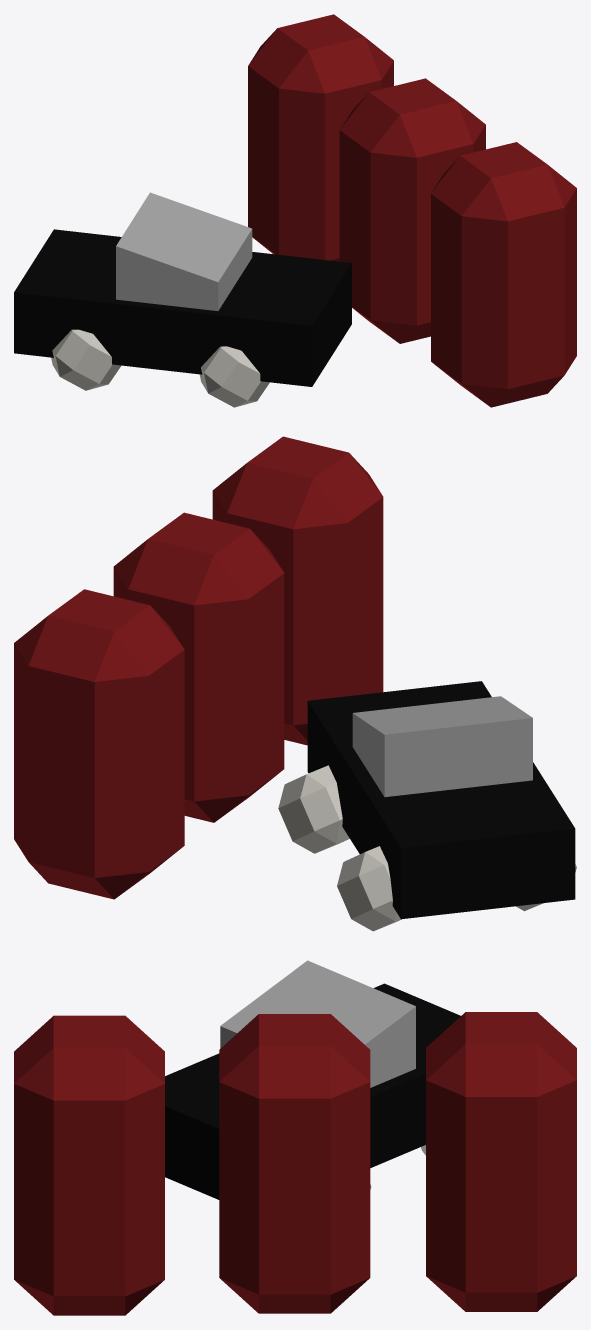
File: gasBunk.glb
3 renders of one model, top to bottom at view 1: azimuth 30°, elevation 25°; view 2: azimuth 150°, elevation 25°; view 3: azimuth 270°, elevation 25°, orthographic. The views are drawn at different scales.
Visible parts, largest first — view 1: Cube.002, Cube.328, Cube.001, Cube, Cube.329, Cube.003, Cube.004; view 2: Cube, Cube.001, Cube.328, Cube.002, Cube.329, Cube.006, Cube.005; view 3: Cube.001, Cube.002, Cube, Cube.328, Cube.329.
Part boxes in pixels (bbox=[...]): Cube.002: bbox=[431, 142, 576, 407]; Cube.328: bbox=[14, 229, 351, 386]; Cube.001: bbox=[339, 78, 485, 343]; Cube: bbox=[248, 14, 393, 261]; Cube.329: bbox=[116, 192, 252, 310]; Cube.003: bbox=[199, 346, 269, 407]; Cube.004: bbox=[51, 329, 120, 390]; Cube: bbox=[14, 589, 184, 899]; Cube.001: bbox=[113, 512, 284, 822]; Cube.328: bbox=[307, 681, 575, 919]; Cube.002: bbox=[212, 436, 383, 745]; Cube.329: bbox=[352, 696, 532, 797]; Cube.006: bbox=[278, 765, 349, 853]; Cube.005: bbox=[337, 846, 402, 931]; Cube.001: bbox=[219, 1014, 370, 1313]; Cube.002: bbox=[14, 1015, 164, 1315]; Cube: bbox=[426, 1012, 576, 1311]; Cube.328: bbox=[165, 983, 460, 1199]; Cube.329: bbox=[220, 960, 415, 1087].
Size of the model in its own units: 7.17 by 3.73 by 7.11.
